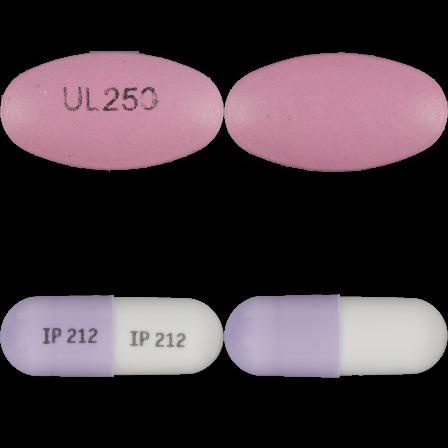61919-809: (0, 0, 224, 224)
